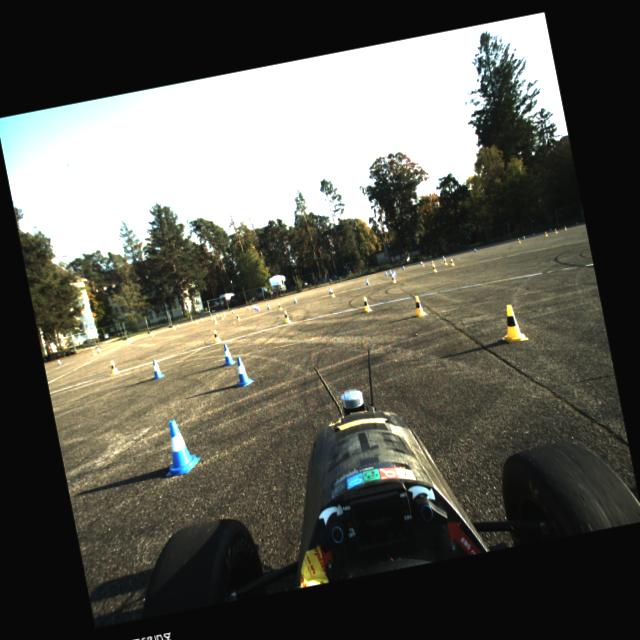blue_cone: (156, 416, 203, 477), (231, 354, 255, 388), (221, 343, 236, 366), (150, 358, 164, 379), (328, 287, 332, 294), (389, 269, 393, 276), (365, 279, 369, 285), (266, 304, 270, 310), (256, 305, 260, 311), (392, 272, 396, 278), (384, 270, 388, 276), (393, 270, 396, 276), (293, 298, 297, 302), (247, 305, 250, 310), (523, 234, 525, 240), (254, 304, 256, 310), (97, 348, 100, 352), (58, 360, 61, 364), (402, 266, 404, 270), (474, 248, 476, 252), (442, 256, 444, 260), (532, 232, 534, 236), (550, 228, 552, 232), (255, 306, 257, 310), (252, 305, 254, 309), (232, 309, 234, 313), (420, 260, 422, 264), (216, 314, 218, 318), (200, 317, 202, 321), (178, 324, 180, 328), (576, 222, 578, 224)
yellow_cone: (496, 302, 528, 344), (412, 294, 428, 317), (108, 359, 120, 375), (362, 296, 373, 312), (212, 329, 222, 344), (283, 310, 292, 323), (278, 302, 284, 312), (432, 264, 438, 273), (391, 274, 396, 284), (330, 288, 335, 298), (236, 313, 241, 321), (450, 258, 455, 266), (443, 258, 448, 266), (554, 228, 558, 234), (430, 260, 434, 266), (213, 318, 217, 324), (92, 350, 96, 356), (126, 339, 130, 344), (223, 312, 226, 318), (195, 318, 198, 324), (544, 232, 548, 236), (518, 238, 521, 243), (220, 314, 223, 319), (173, 326, 176, 330), (214, 318, 217, 322), (422, 262, 424, 267), (151, 332, 153, 337), (564, 226, 566, 230), (210, 316, 212, 320)
